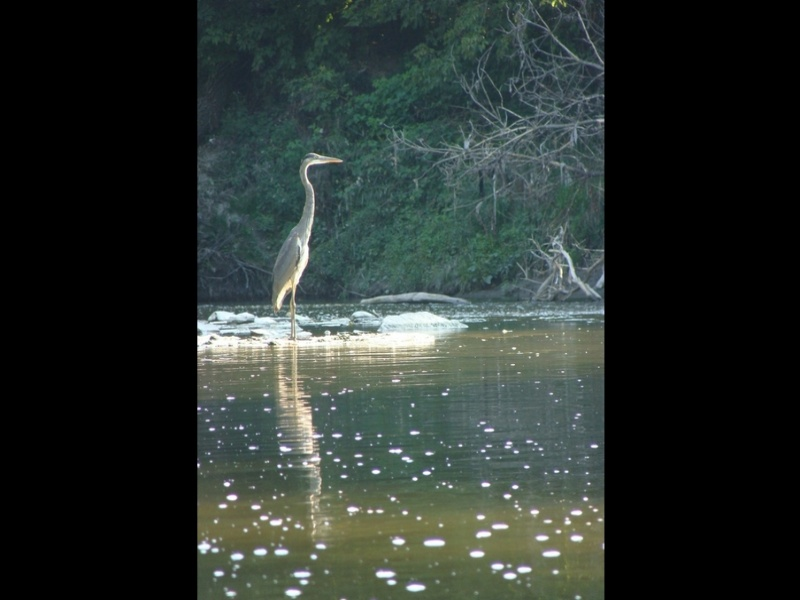heron: (266, 149, 347, 346)
